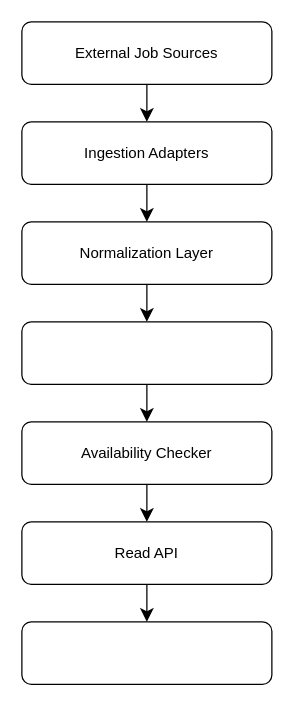
Some shapes in this 306 by 706 pixel diagram are drawn without their labels. Here are the shapes that lost their labels. From the top down, the centre of each, then its label:
At point 146,352: "Job Store".
At point 146,652: "Frontend".
